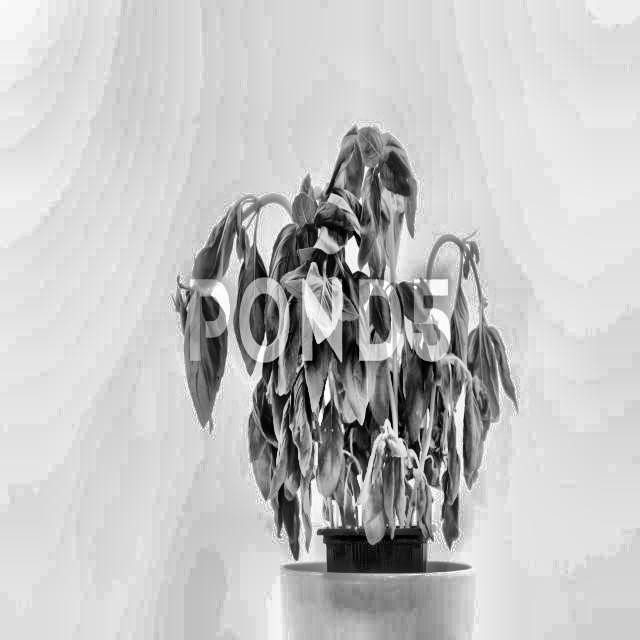plants: (164, 118, 520, 571)
